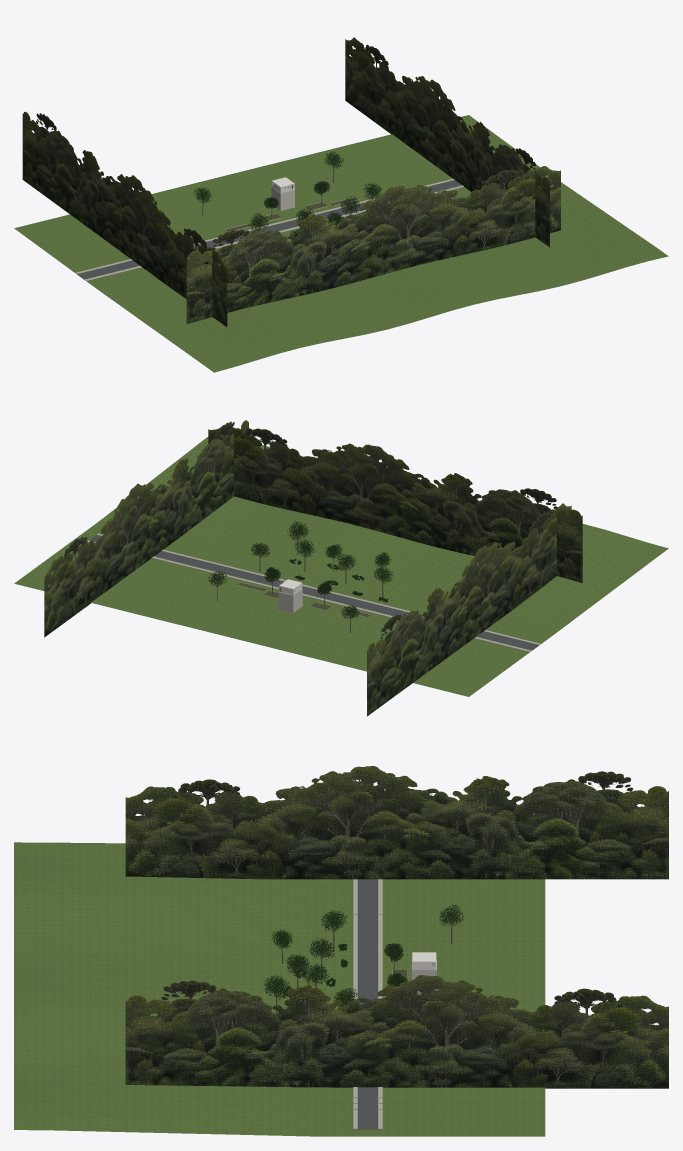
File: apartamento.glb
3 renders of one model, top to bottom at view 1: azimuth 30°, elevation 25°; view 2: azimuth 150°, elevation 25°; view 3: azimuth 270°, elevation 25°, orthographic. The views are drawn at different scales.
Parts seen in each view (by area): view 1: B_UNIT_ROOF_B_CONTEXT6_FOREST_BACKDROP, B_UNIT_ROOF_B_CONTEXT6_GRASS, B_UNIT_ROOF_B_CONTEXT6_GRASS_SHADE, B_UNIT_ROOF_B_CONTEXT6_BROADLEAF, B_UNIT_ROOF_B_CONTEXT6_ROAD, B_UNIT_ROOF_B_CONTEXT6_PATH; view 2: B_UNIT_ROOF_B_CONTEXT6_FOREST_BACKDROP, B_UNIT_ROOF_B_CONTEXT6_GRASS, B_UNIT_ROOF_B_CONTEXT6_GRASS_SHADE, B_UNIT_ROOF_B_CONTEXT6_BROADLEAF, B_UNIT_ROOF_B_CONTEXT6_ROAD, B_UNIT_ROOF_B_CONTEXT6_PATH, B_UNIT_ROOF_B_CONTEXT6_CURB; view 3: B_UNIT_ROOF_B_CONTEXT6_FOREST_BACKDROP, B_UNIT_ROOF_B_CONTEXT6_GRASS, B_UNIT_ROOF_B_CONTEXT6_GRASS_SHADE, B_UNIT_ROOF_B_CONTEXT6_BROADLEAF, B_UNIT_ROOF_B_CONTEXT6_ROAD, B_UNIT_ROOF_B_CONTEXT6_PATH.
Boxes of the visible parts, x1,y1,x2,y2 form: B_UNIT_ROOF_B_CONTEXT6_FOREST_BACKDROP: [22, 37, 560, 326]; B_UNIT_ROOF_B_CONTEXT6_GRASS: [14, 115, 668, 372]; B_UNIT_ROOF_B_CONTEXT6_GRASS_SHADE: [52, 152, 646, 354]; B_UNIT_ROOF_B_CONTEXT6_BROADLEAF: [194, 151, 388, 240]; B_UNIT_ROOF_B_CONTEXT6_ROAD: [77, 180, 461, 279]; B_UNIT_ROOF_B_CONTEXT6_PATH: [75, 178, 463, 280]; B_UNIT_ROOF_B_CONTEXT6_FOREST_BACKDROP: [44, 420, 582, 716]; B_UNIT_ROOF_B_CONTEXT6_GRASS: [14, 435, 668, 696]; B_UNIT_ROOF_B_CONTEXT6_GRASS_SHADE: [64, 461, 643, 669]; B_UNIT_ROOF_B_CONTEXT6_BROADLEAF: [208, 521, 393, 618]; B_UNIT_ROOF_B_CONTEXT6_ROAD: [89, 535, 539, 650]; B_UNIT_ROOF_B_CONTEXT6_PATH: [87, 533, 540, 651]; B_UNIT_ROOF_B_CONTEXT6_CURB: [89, 534, 539, 650]; B_UNIT_ROOF_B_CONTEXT6_FOREST_BACKDROP: [125, 766, 668, 1088]; B_UNIT_ROOF_B_CONTEXT6_GRASS: [14, 842, 545, 1136]; B_UNIT_ROOF_B_CONTEXT6_GRASS_SHADE: [14, 843, 545, 1136]; B_UNIT_ROOF_B_CONTEXT6_BROADLEAF: [263, 904, 463, 1007]; B_UNIT_ROOF_B_CONTEXT6_ROAD: [357, 879, 378, 1129]; B_UNIT_ROOF_B_CONTEXT6_PATH: [353, 879, 382, 1129].
Size of the model in its own units: 231 by 43.58 by 217.
Materials: 49 (24 with a texture image).
